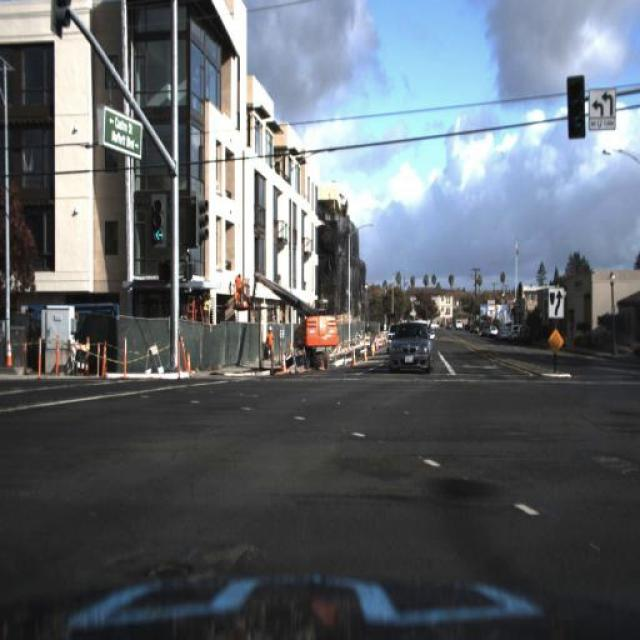semaforo: (149, 194, 167, 249)
